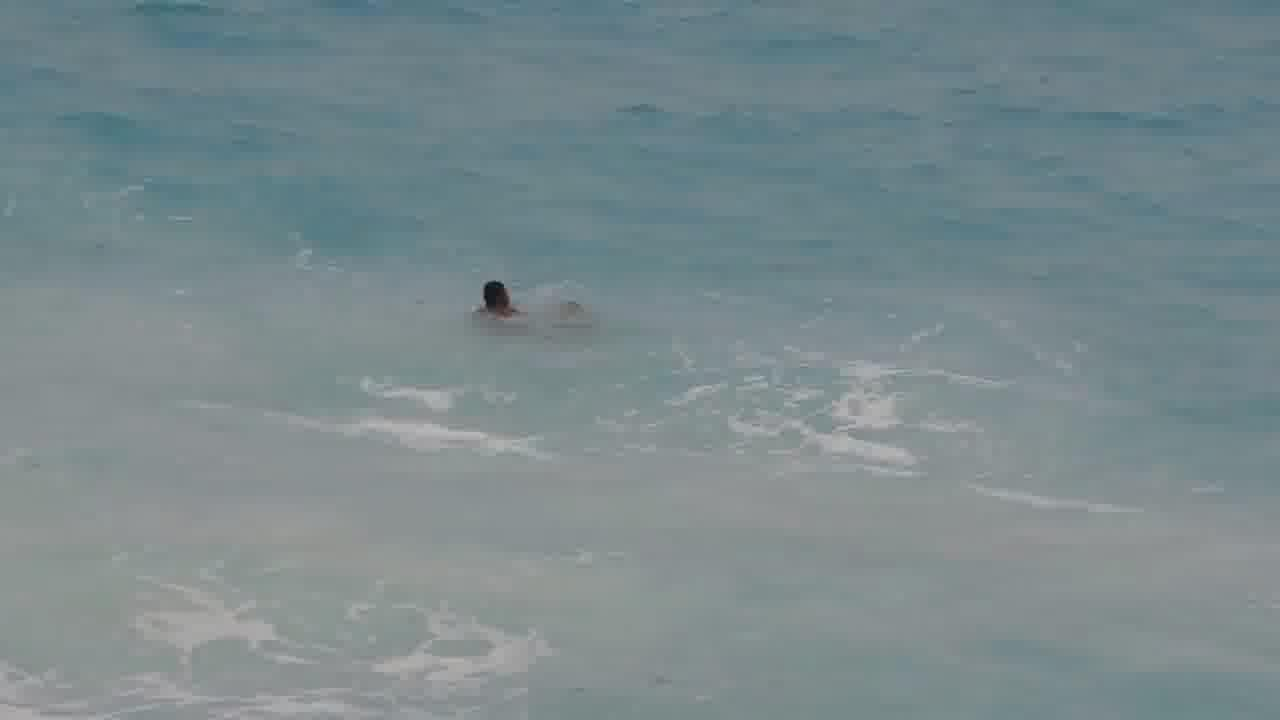swimmer: (468, 270, 529, 322)
